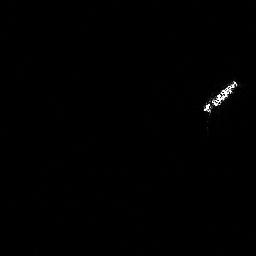ship: (199, 77, 242, 116)
